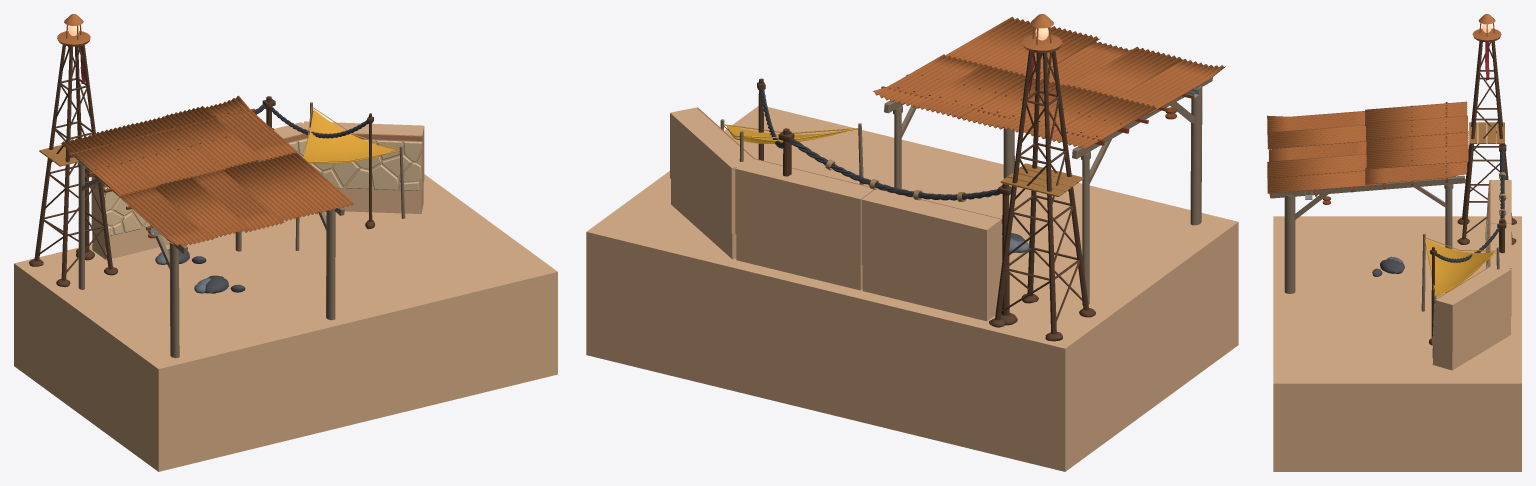
The model's file is nomad_smithy.fbx.
3 views of the same model, side by side, from view 1: azimuth 30°, elevation 25°; view 2: azimuth 150°, elevation 25°; view 3: azimuth 270°, elevation 25° (orthographic). The views are drawn at different scales.
Parts seen in each view (by area): view 1: NomadSmithy; view 2: NomadSmithy; view 3: NomadSmithy.
Boxes of the visible parts, x1=… form: NomadSmithy: x1=14, y1=14, x2=557, y2=471; NomadSmithy: x1=586, y1=14, x2=1238, y2=471; NomadSmithy: x1=1267, y1=14, x2=1521, y2=471.
Size of the model in its own units: 1787 by 1527 by 1150.
